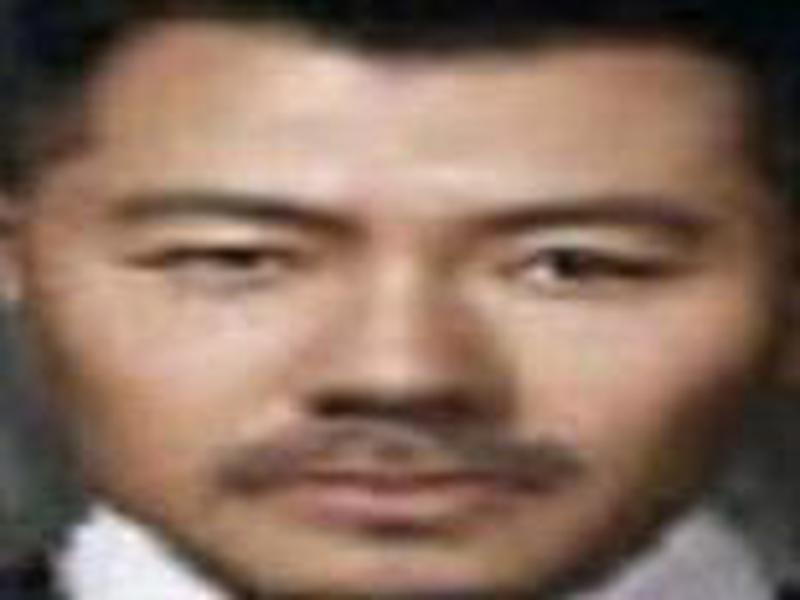without_mask: (33, 33, 768, 597)
